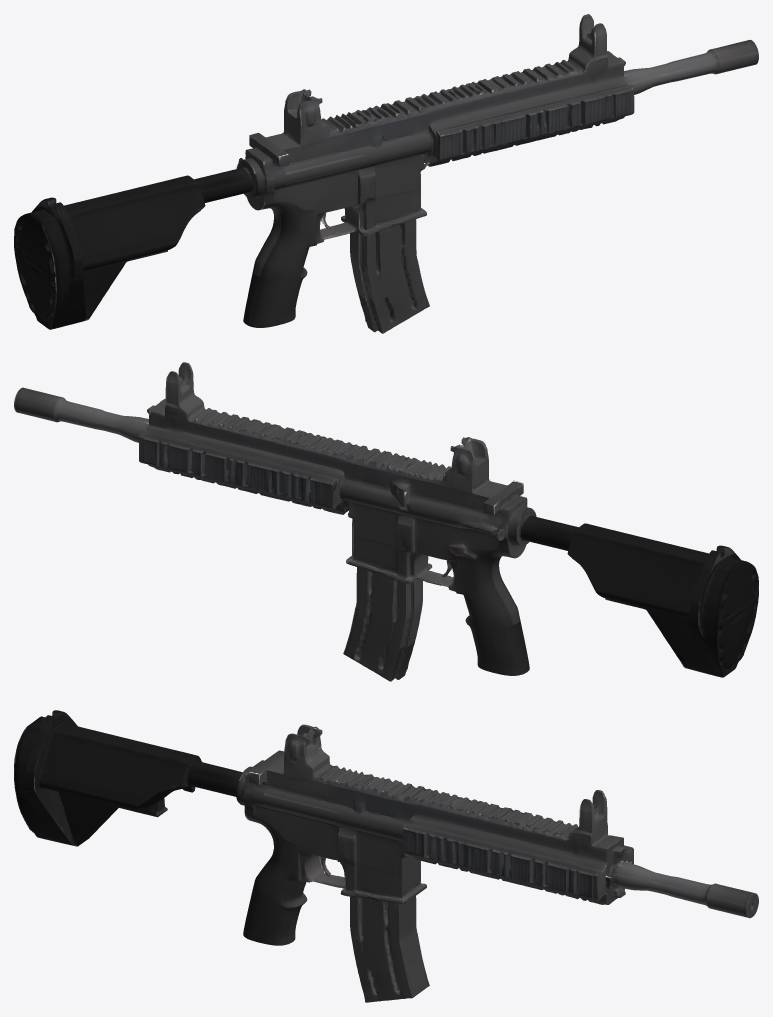
Rendered from m416_modern_assault_rifle.glb.
3 views of the same model, one above another, from view 1: azimuth 30°, elevation 25°; view 2: azimuth 150°, elevation 25°; view 3: azimuth 330°, elevation 25° (orthographic).
Visible parts, largest first — view 1: Object_2; view 2: Object_2; view 3: Object_2.
Boxes of the visible parts, x1=… form: Object_2: x1=14, y1=14, x2=758, y2=333; Object_2: x1=14, y1=362, x2=758, y2=681; Object_2: x1=14, y1=710, x2=758, y2=1002.
Size of the model in its own units: 1.9 by 0.6477 by 0.2253.
Materials: 1 (1 with a texture image).
